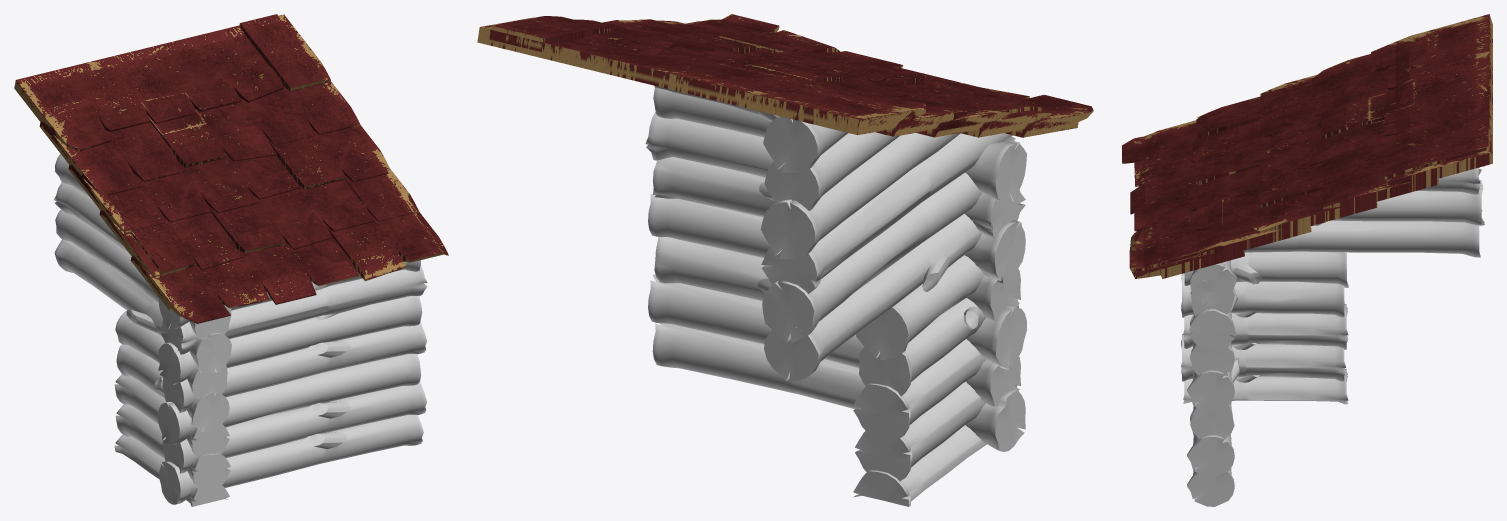
Rendered from logCabin_endWall_R.fbx.
3 views of the same model, side by side, from view 1: azimuth 30°, elevation 25°; view 2: azimuth 150°, elevation 25°; view 3: azimuth 270°, elevation 25° (orthographic). The views are drawn at different scales.
Parts seen in each view (by area): view 1: polySurface97, polySurface78; view 2: polySurface78, polySurface97; view 3: polySurface97, polySurface78.
Part boxes in pixels (bbox=[...]): polySurface97: bbox=[14, 14, 448, 323]; polySurface78: bbox=[54, 154, 427, 506]; polySurface78: bbox=[645, 85, 1026, 506]; polySurface97: bbox=[477, 14, 1093, 137]; polySurface97: bbox=[1122, 14, 1492, 278]; polySurface78: bbox=[1181, 166, 1484, 506].
Size of the model in its own units: 278 by 330 by 310.
